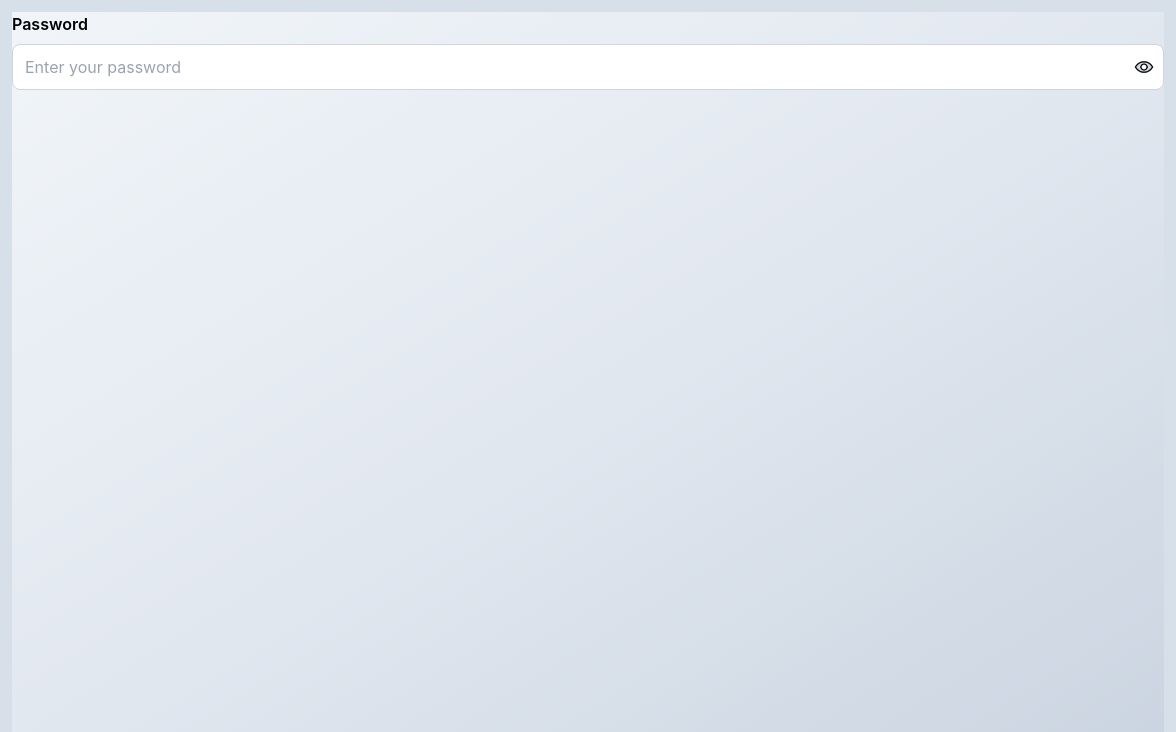
Test: PasswordInput Component › shows error when special character is missing
The width and height of the screenshot is (1176, 732).
Type "Abcdefg123" into the password field with placeholder "Enter your password" at (588, 67), box [12,44,1164,90]
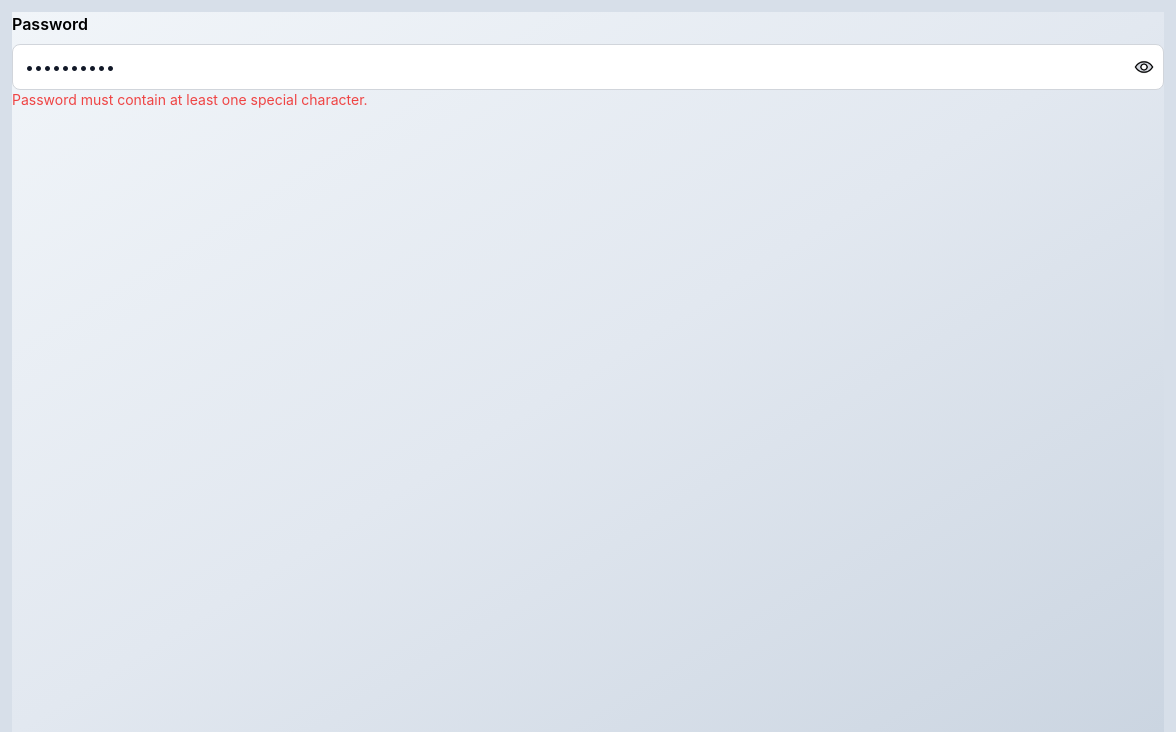
Check: the text "Password must contain at least one special character." is shown, box [12,91,368,108]
